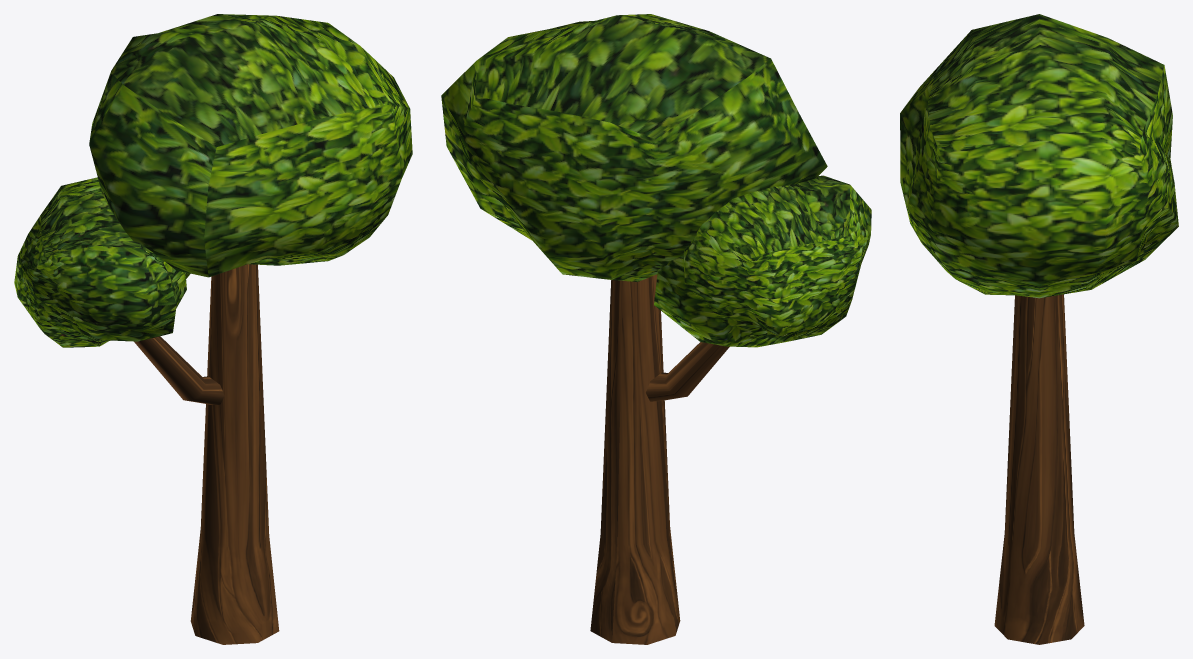
Rendered from tree1.fbx.
3 views of the same model, side by side, from view 1: azimuth 30°, elevation 25°; view 2: azimuth 150°, elevation 25°; view 3: azimuth 270°, elevation 25° (orthographic). The views are drawn at different scales.
Parts seen in each view (by area): view 1: Cylinder; view 2: Cylinder; view 3: Cylinder.
Boxes of the visible parts, x1=… form: Cylinder: x1=14, y1=14, x2=412, y2=644; Cylinder: x1=441, y1=14, x2=871, y2=644; Cylinder: x1=900, y1=14, x2=1178, y2=644.
Bounding box in the file's own units: 249 × 383 × 165.
